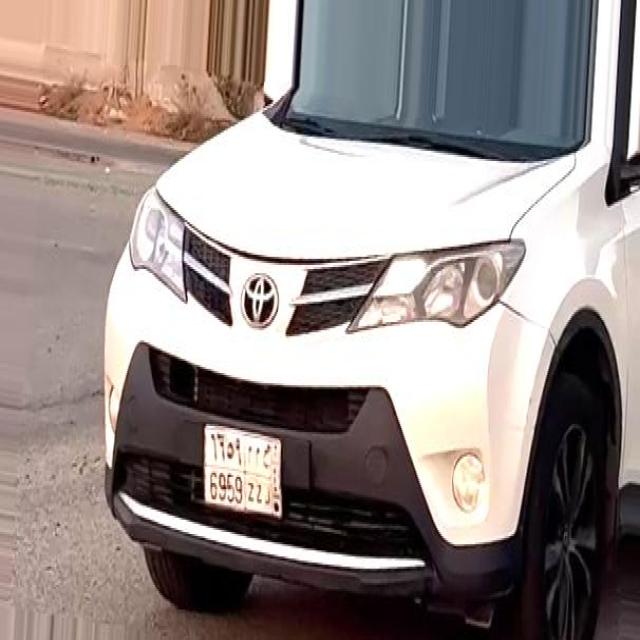Car-plate: (194, 404, 297, 536)
